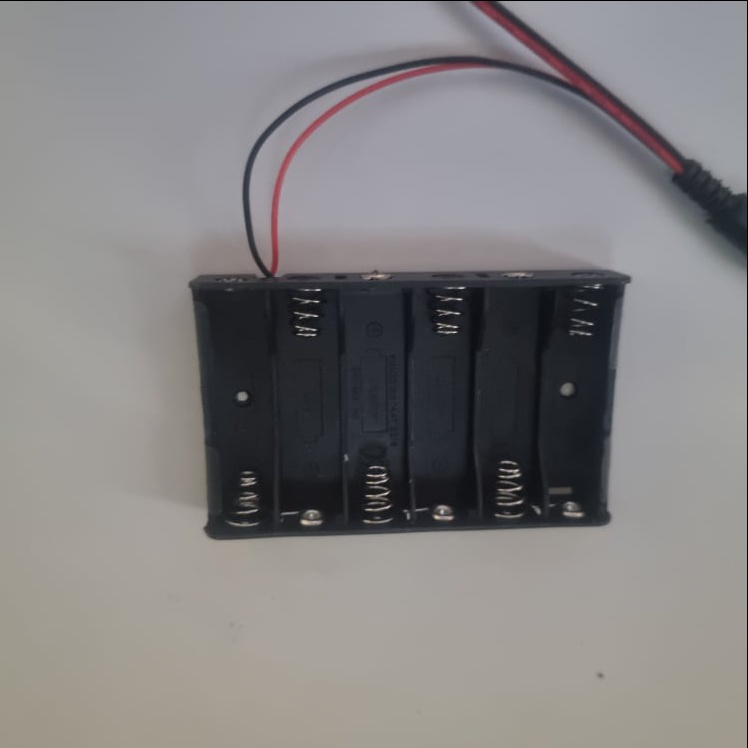BATTERY BOX: (187, 264, 633, 541)
